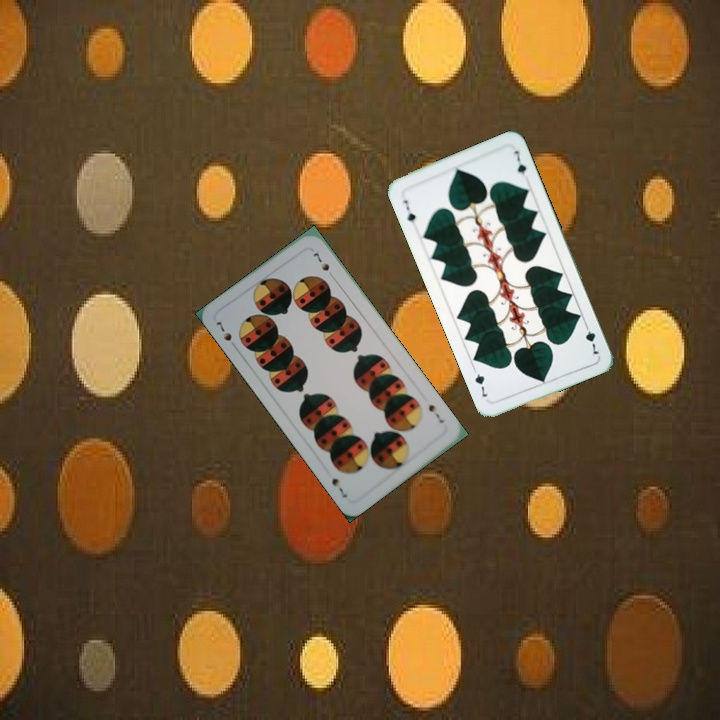G7: (580, 319, 602, 358), (399, 196, 418, 225)
S7: (211, 317, 240, 352), (424, 400, 447, 426)
